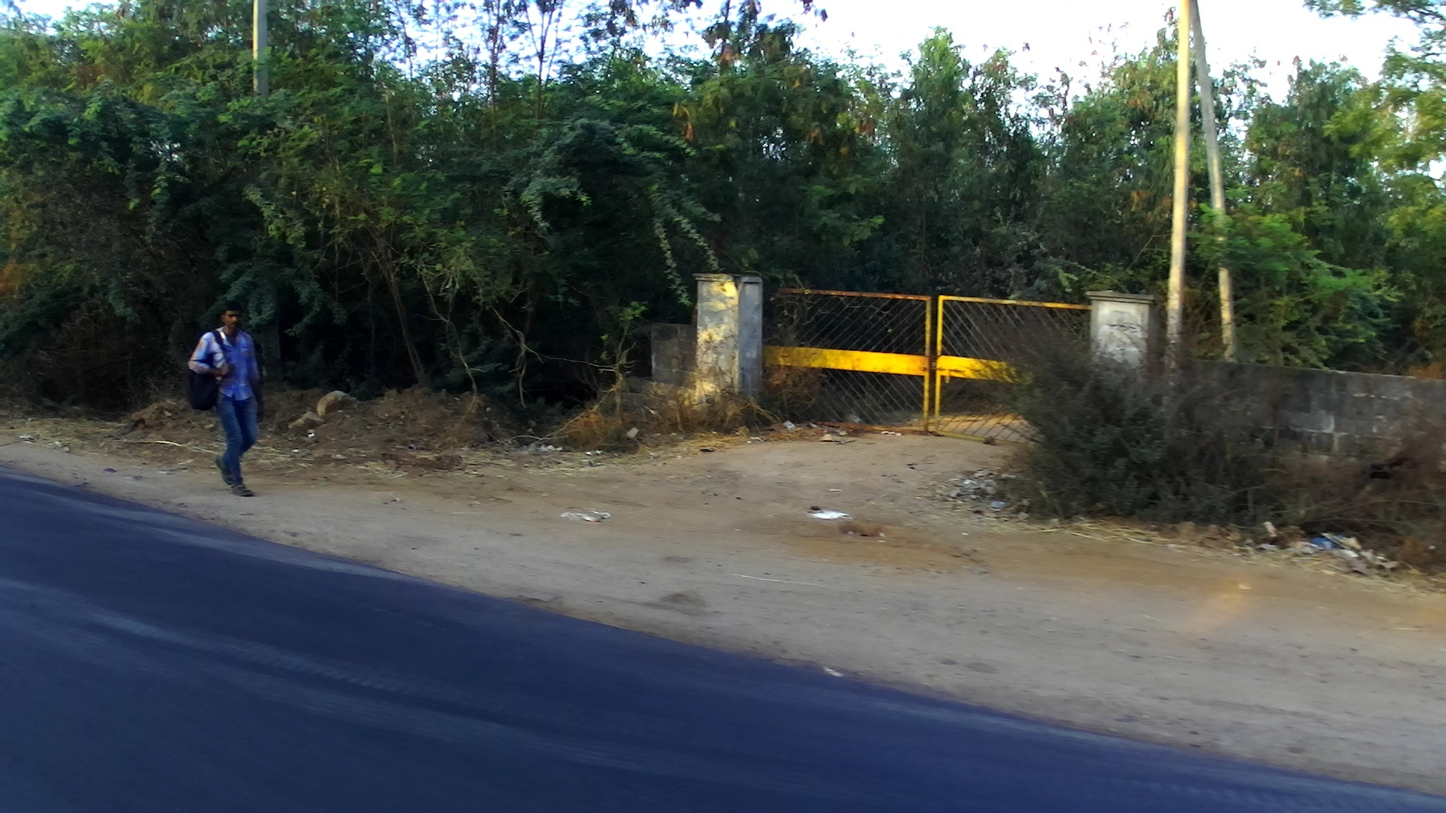person: (187, 303, 270, 502)
